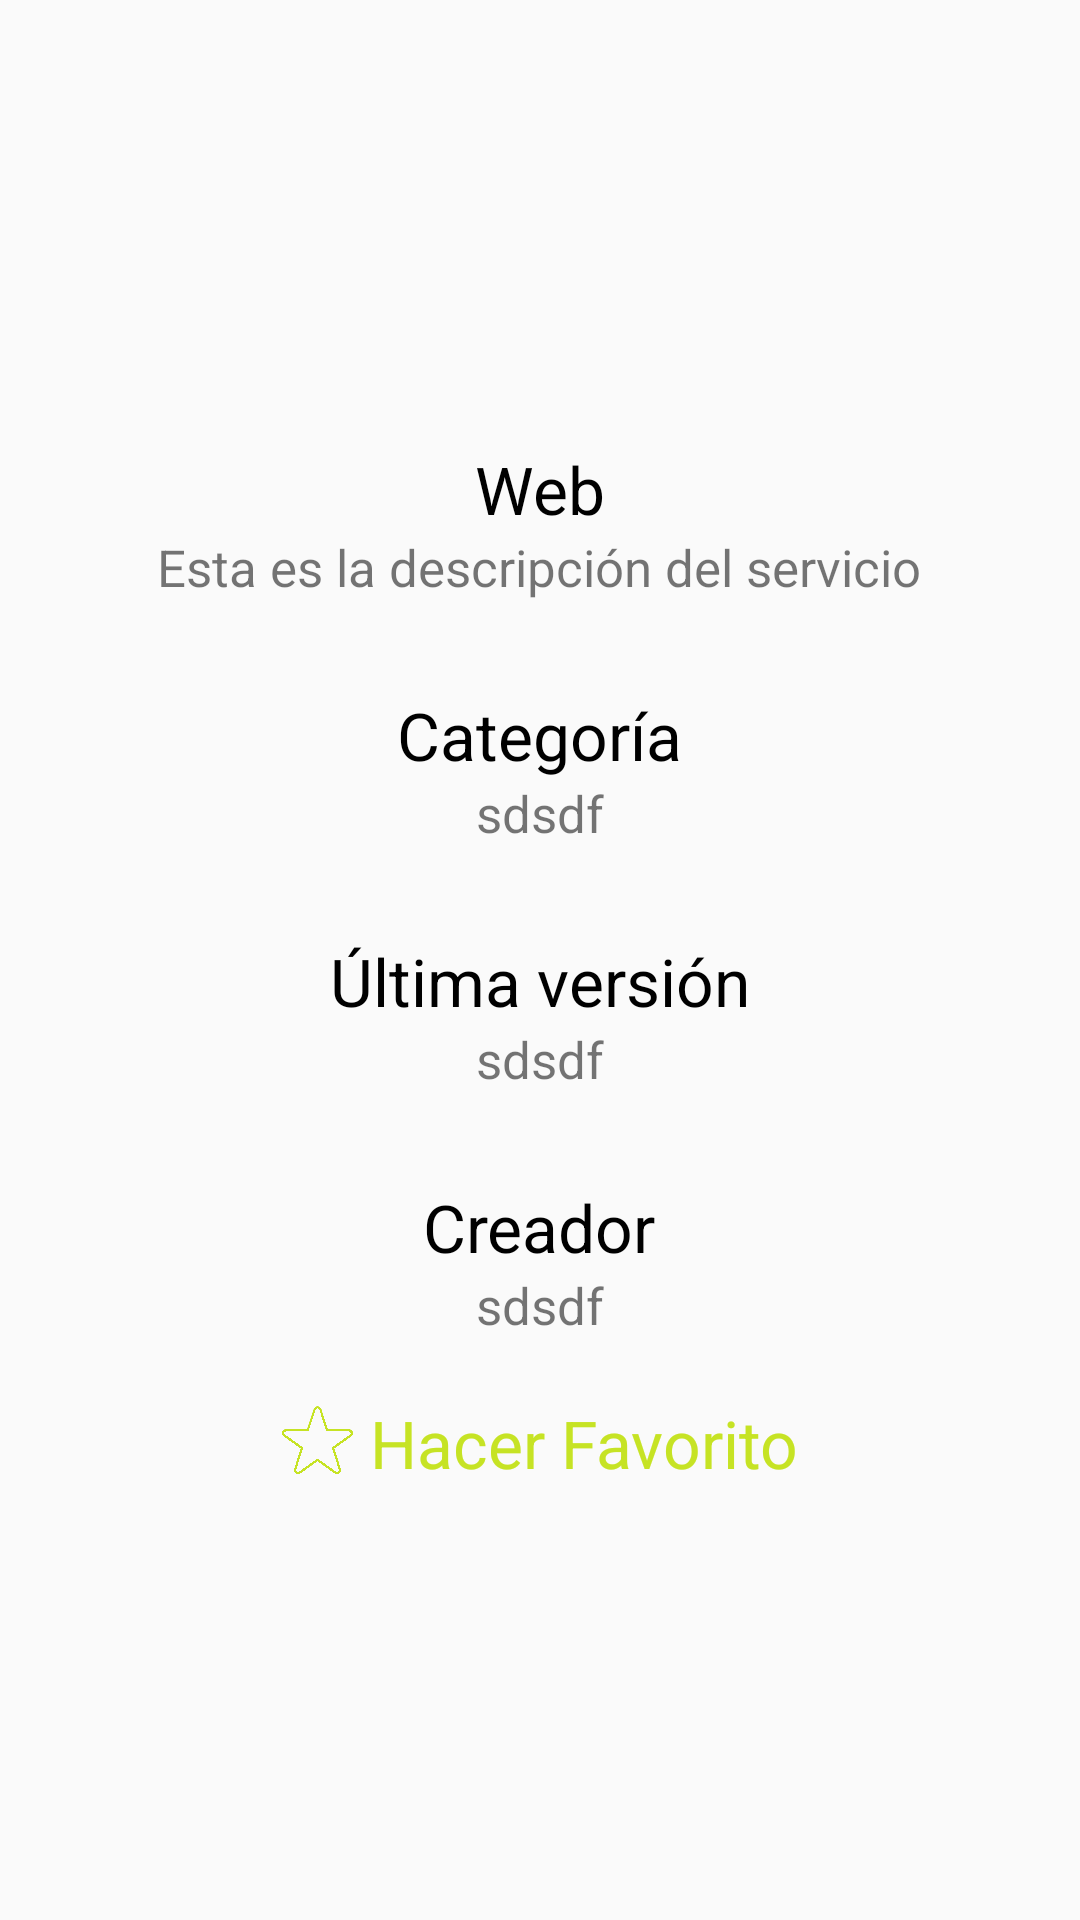

Locate icon controls on the screen. Image size 1080×1920, boxes as Rect(x1, y1, x2, y2).
star: Rect(282, 1406, 353, 1474)
